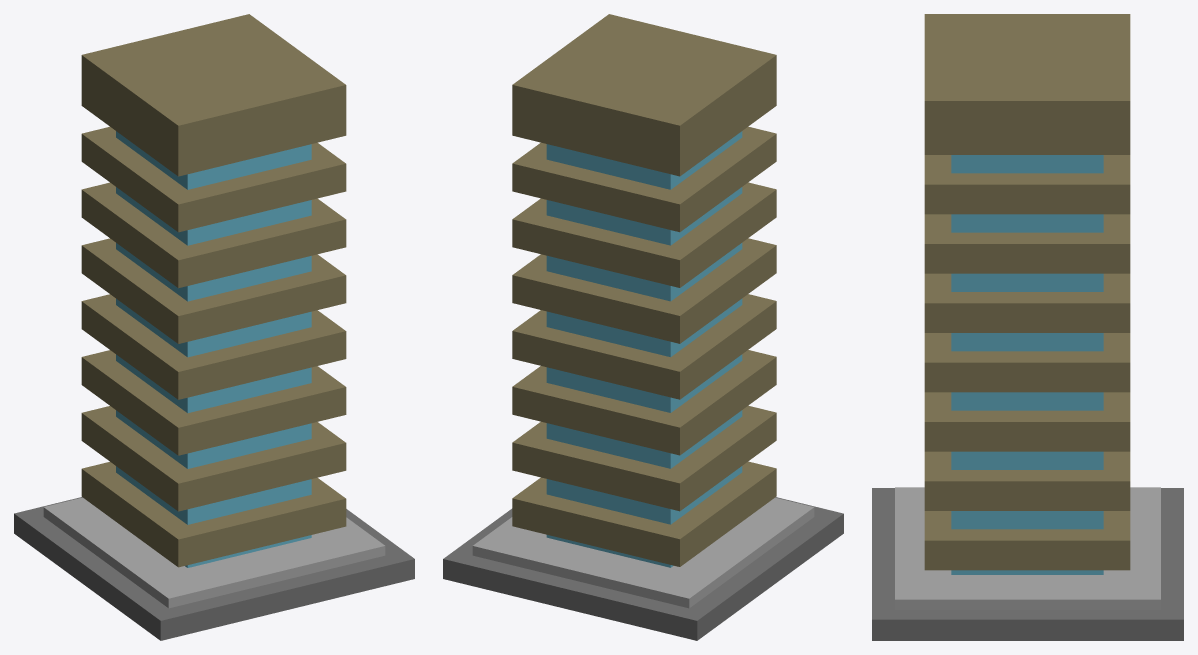
File: Towers5.fbx
3 views of the same model, side by side, from view 1: azimuth 30°, elevation 25°; view 2: azimuth 150°, elevation 25°; view 3: azimuth 270°, elevation 25° (orthographic). The views are drawn at different scales.
Visible parts, largest first — view 1: pCube149, pCube151, pCube150; view 2: pCube149, pCube151, pCube150; view 3: pCube149, pCube151, pCube150.
Part boxes in pixels (x1=…): pCube149: x1=81, y1=14, x2=346, y2=567; pCube151: x1=14, y1=497, x2=414, y2=640; pCube150: x1=43, y1=497, x2=385, y2=608; pCube149: x1=512, y1=14, x2=776, y2=567; pCube151: x1=443, y1=497, x2=843, y2=640; pCube150: x1=472, y1=497, x2=814, y2=608; pCube149: x1=924, y1=14, x2=1130, y2=574; pCube151: x1=872, y1=488, x2=1183, y2=640; pCube150: x1=895, y1=487, x2=1160, y2=609.
Bounding box in the file's own units: 12.79 × 23.4 × 12.79.
